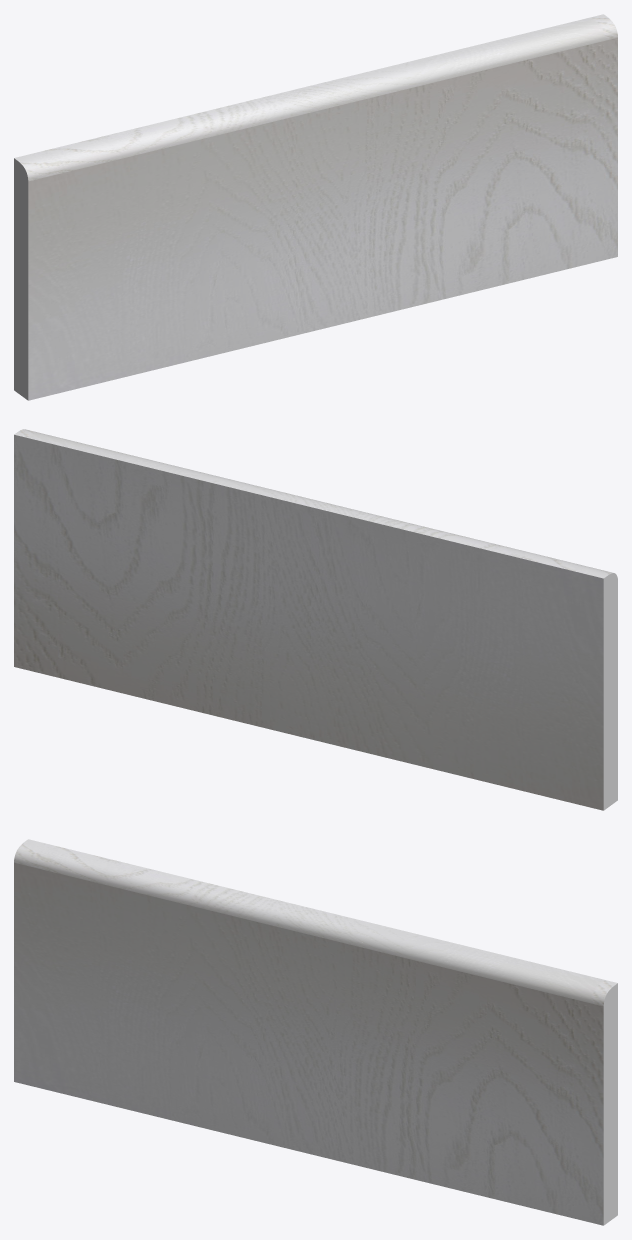
File: footer.FBX
3 views of the same model, one above another, from view 1: azimuth 30°, elevation 25°; view 2: azimuth 150°, elevation 25°; view 3: azimuth 330°, elevation 25° (orthographic).
Visible parts, largest first — view 1: Box001; view 2: Box001; view 3: Box001.
Boxes of the visible parts, bbox=[...] form: Box001: bbox=[14, 14, 617, 400]; Box001: bbox=[14, 429, 617, 810]; Box001: bbox=[14, 839, 617, 1225].
Size of the model in its own units: 599 by 225 by 25.1.
1 material, 1 textured.
